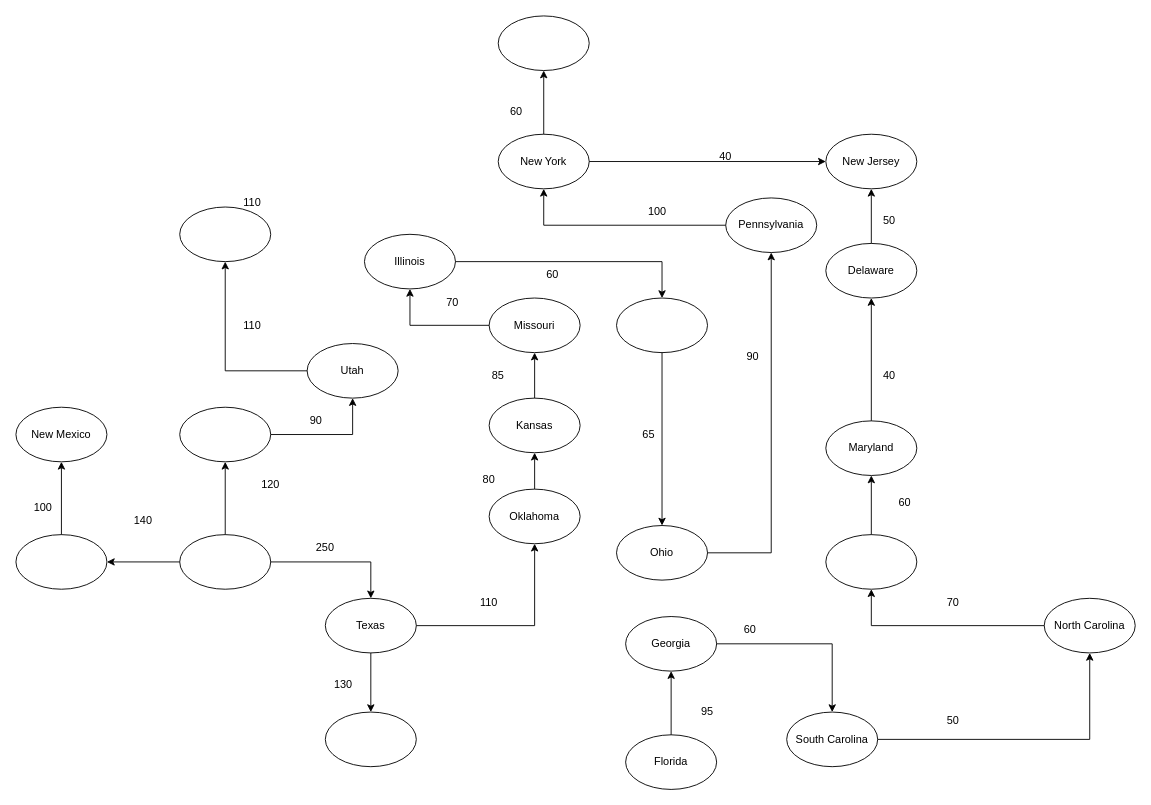
Some shapes in this 1151 by 805 pixel diagram are drawn without their labels. The shapes that lost their labels are listed below. From the top down, each one's centre as x and y in pixels, then its label:
At (x=543, y=43): "Massachusetts".
At (x=225, y=234): "Colorado".
At (x=662, y=325): "Indiana".
At (x=225, y=434): "Nevada".
At (x=61, y=561): "Arizona".
At (x=225, y=561): "California".
At (x=871, y=561): "Virginia".
At (x=370, y=739): "Louisiana".
